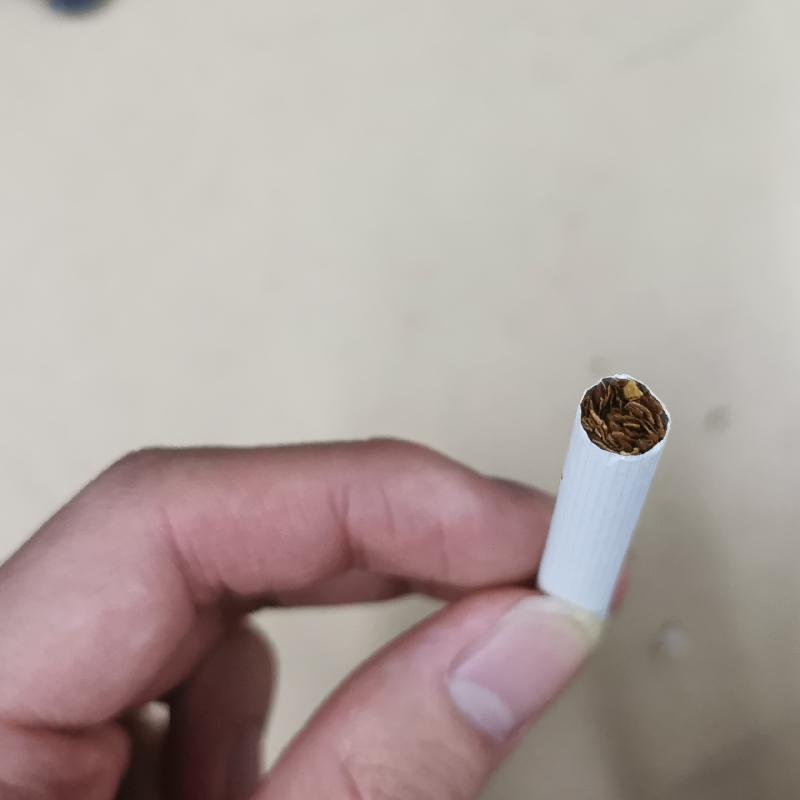cigarette: (539, 372, 672, 624)
